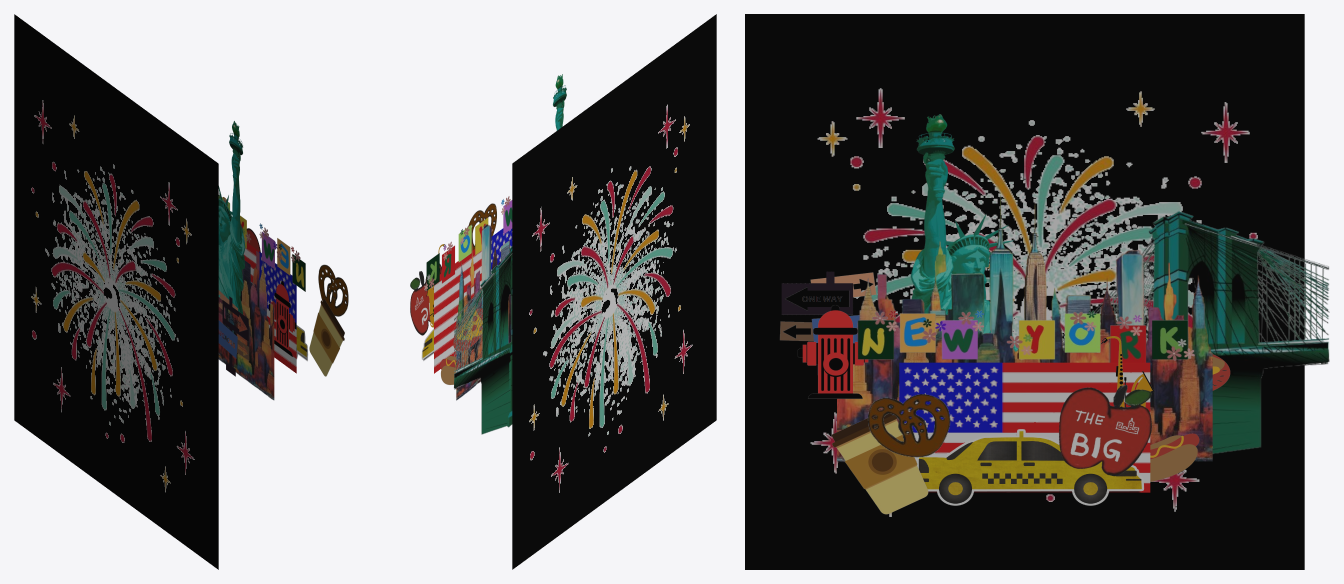
File: NYBest.glb
The picture shows the model from 3 angles, left to right: view 1: azimuth 30°, elevation 25°; view 2: azimuth 150°, elevation 25°; view 3: azimuth 270°, elevation 25°; orthographic projection. The views are drawn at different scales.
Visible parts, largest first — view 1: vatromet-removebg-preview, skyline 3, statueNY, US Flag, Coffee-best, newyork_slova-removebg-preview(1), oneway-removebg-preview, vatrogasci-removebg-preview, pereceNY-removebg-preview; view 2: vatromet-removebg-preview, Brooklyn_Bridge-Best, US Flag, skyline 3, newyork_slova-removebg-preview(1), the_big-removebg-preview, pizza-removebg-preview, statueNY, pereceNY-removebg-preview; view 3: vatromet-removebg-preview, skyline 3, Brooklyn_Bridge-Best, US Flag, newyork_slova-removebg-preview(1), taxi, statueNY, the_big-removebg-preview, Coffee-best, vatrogasci-removebg-preview, pereceNY-removebg-preview, oneway-removebg-preview (+1 smaller).
Boxes of the visible parts, x1,y1,x2,y2 form: vatromet-removebg-preview: (14, 14, 218, 569); skyline 3: (218, 251, 274, 400); statueNY: (218, 121, 245, 314); US Flag: (243, 242, 296, 373); Coffee-best: (309, 298, 344, 376); newyork_slova-removebg-preview(1): (218, 193, 305, 291); oneway-removebg-preview: (218, 290, 249, 376); vatrogasci-removebg-preview: (268, 281, 296, 356); pereceNY-removebg-preview: (318, 264, 348, 316); vatromet-removebg-preview: (512, 14, 716, 569); Brooklyn_Bridge-Best: (454, 246, 512, 434); US Flag: (434, 228, 512, 373); skyline 3: (456, 224, 511, 400); newyork_slova-removebg-preview(1): (424, 196, 512, 290); the_big-removebg-preview: (410, 264, 441, 335); pizza-removebg-preview: (453, 307, 482, 351); statueNY: (553, 74, 566, 130); pereceNY-removebg-preview: (468, 203, 496, 250); vatromet-removebg-preview: (745, 14, 1304, 569); skyline 3: (837, 195, 1212, 462); Brooklyn_Bridge-Best: (1062, 211, 1329, 453); US Flag: (899, 362, 1150, 492); newyork_slova-removebg-preview(1): (858, 310, 1194, 362); taxi: (916, 429, 1143, 508); statueNY: (910, 114, 1063, 351); the_big-removebg-preview: (1059, 385, 1151, 476); Coffee-best: (831, 413, 928, 514); vatrogasci-removebg-preview: (797, 305, 868, 398); pereceNY-removebg-preview: (868, 394, 950, 457); oneway-removebg-preview: (779, 271, 876, 375).
Bounding box in the file's own units: 2.8 × 6.23 × 5.94.
Materials: 15 (15 with a texture image).
